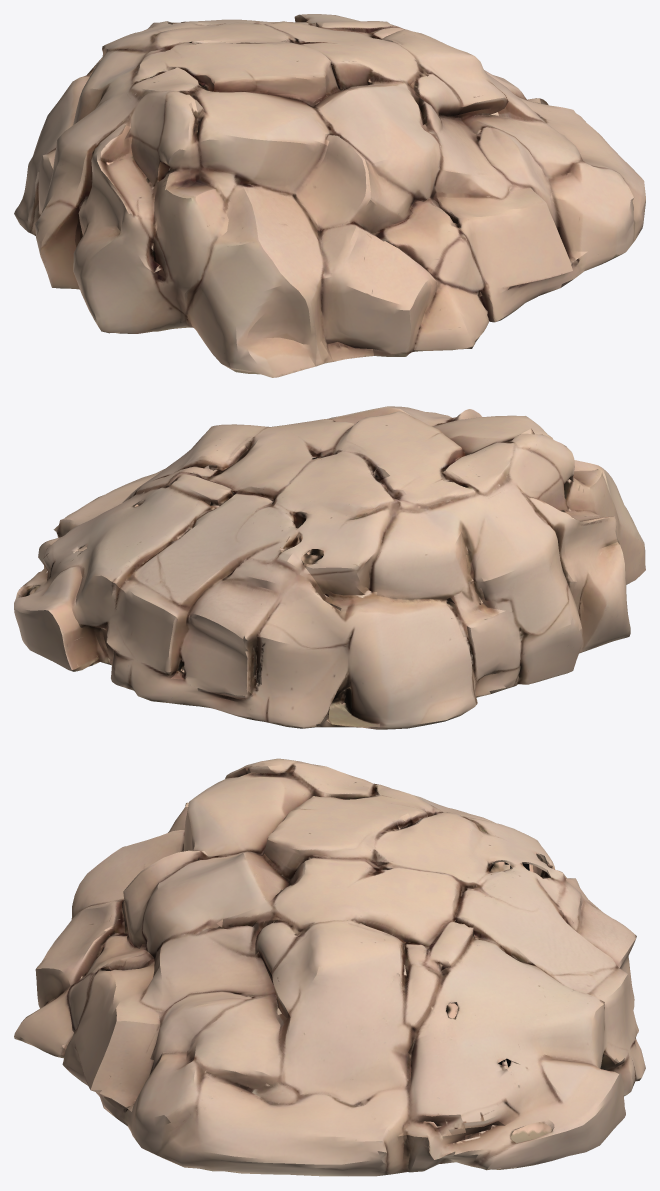
Rendered from Meshy_AI_Stylized_low_poly_sto_0519051513_texture.obj.
The picture shows the model from 3 angles, top to bottom: view 1: azimuth 30°, elevation 25°; view 2: azimuth 150°, elevation 25°; view 3: azimuth 270°, elevation 25°; orthographic projection. The views are drawn at different scales.
Parts seen in each view (by area): view 1: Meshy_AI_Stylized_low_poly_sto_0519051513_texture; view 2: Meshy_AI_Stylized_low_poly_sto_0519051513_texture; view 3: Meshy_AI_Stylized_low_poly_sto_0519051513_texture.
Part boxes in pixels (<box>): Meshy_AI_Stylized_low_poly_sto_0519051513_texture: <box>14,14,645,377</box>; Meshy_AI_Stylized_low_poly_sto_0519051513_texture: <box>14,406,645,729</box>; Meshy_AI_Stylized_low_poly_sto_0519051513_texture: <box>14,758,645,1176</box>.
Bounding box in the file's own units: 2 × 0.7073 × 1.95.
Materials: 1 (1 with a texture image).
